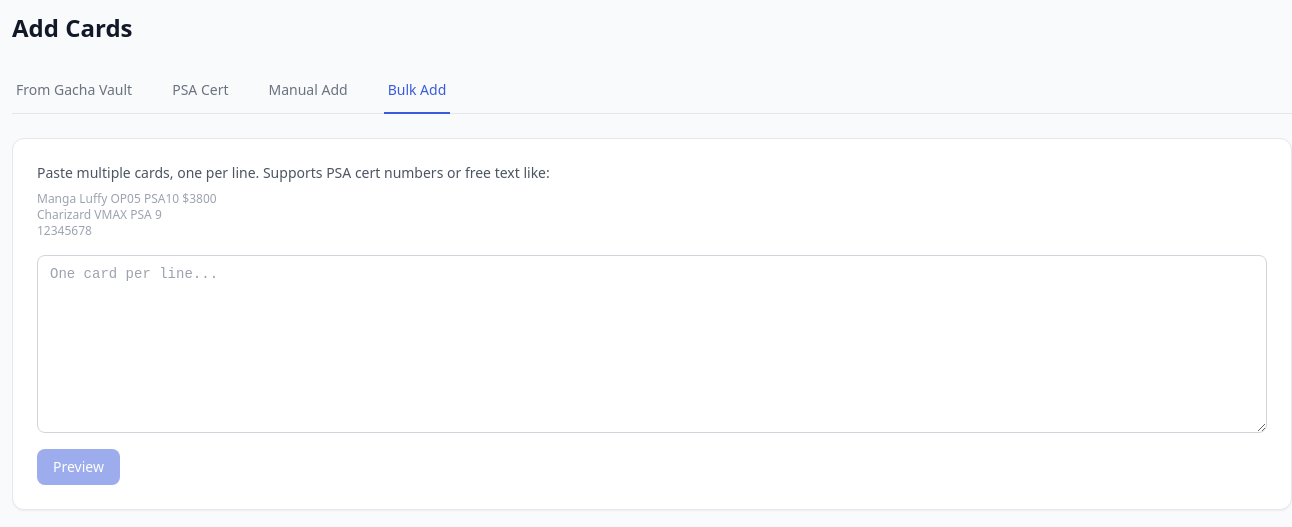
Test: UploadPage - Bulk Tab › shows receipt with portfolio delta
Type "Manga Luffy PSA10 $3800" into the text box with placeholder "One card per line..." at (652, 344), box [37,255,1267,433]
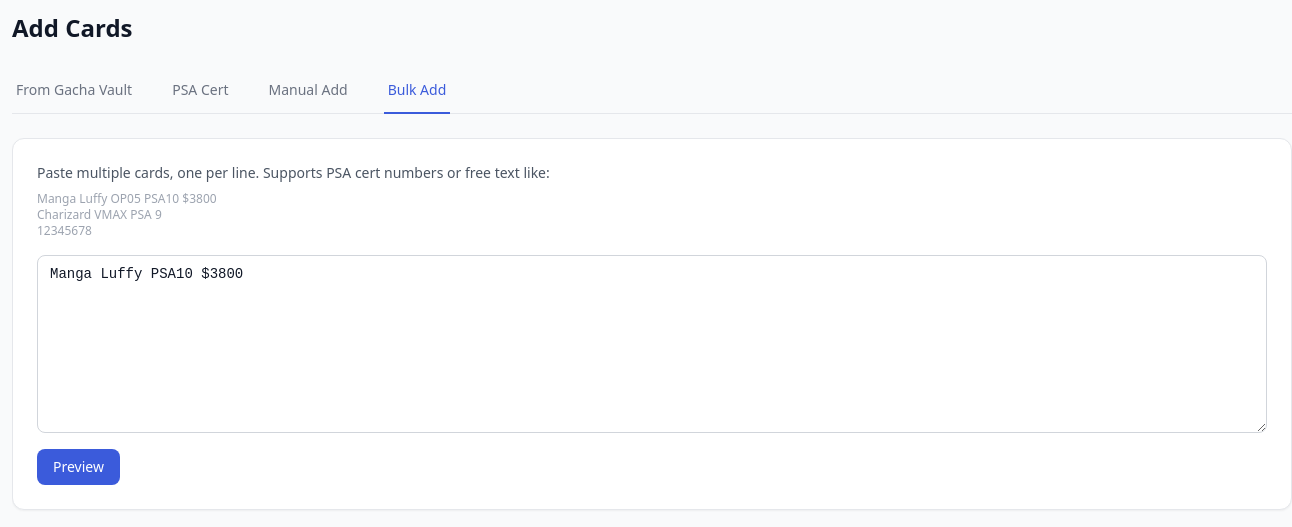
Click the button "Preview" at (78, 467), box [37,449,120,485]
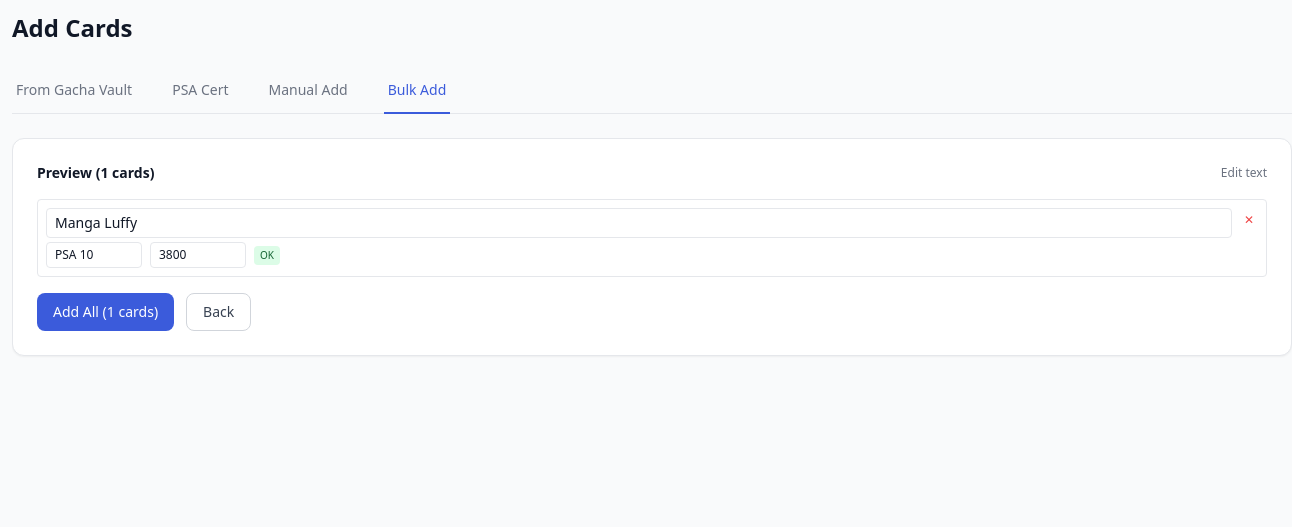
Expected: the button "Add All (1 cards)" is shown
Click the button "Add All (1 cards)" at (106, 312), box [37,293,174,331]
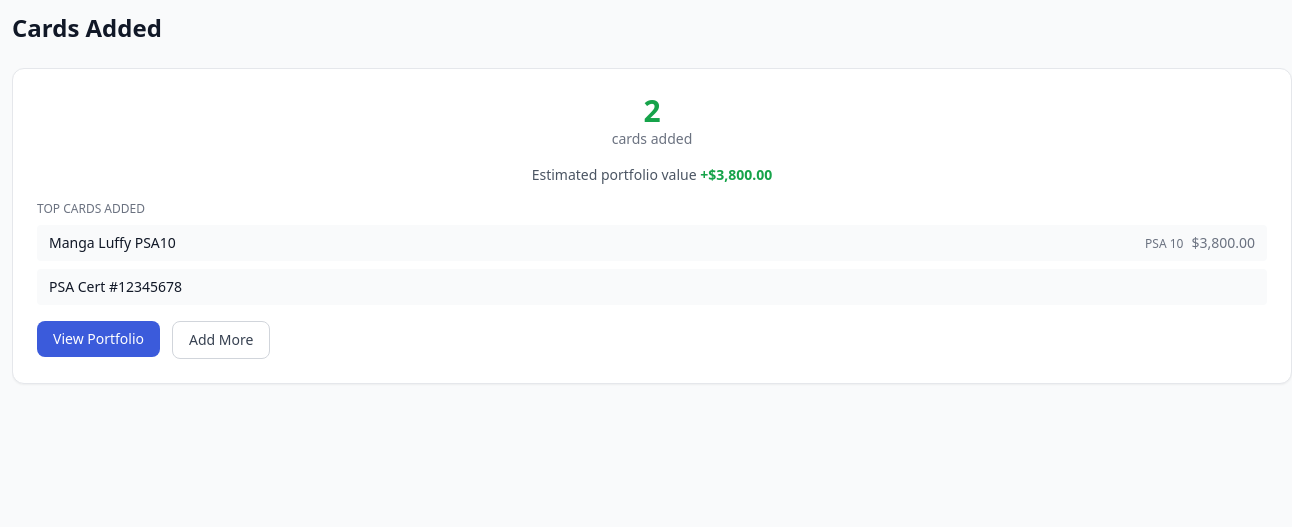
Expected: the text "+$3,800.00" is shown, [700,165,772,184]
Expected: the button "View Portfolio" is shown, [37,321,160,357]
Expected: the button "Add More" is shown, [172,321,270,359]
